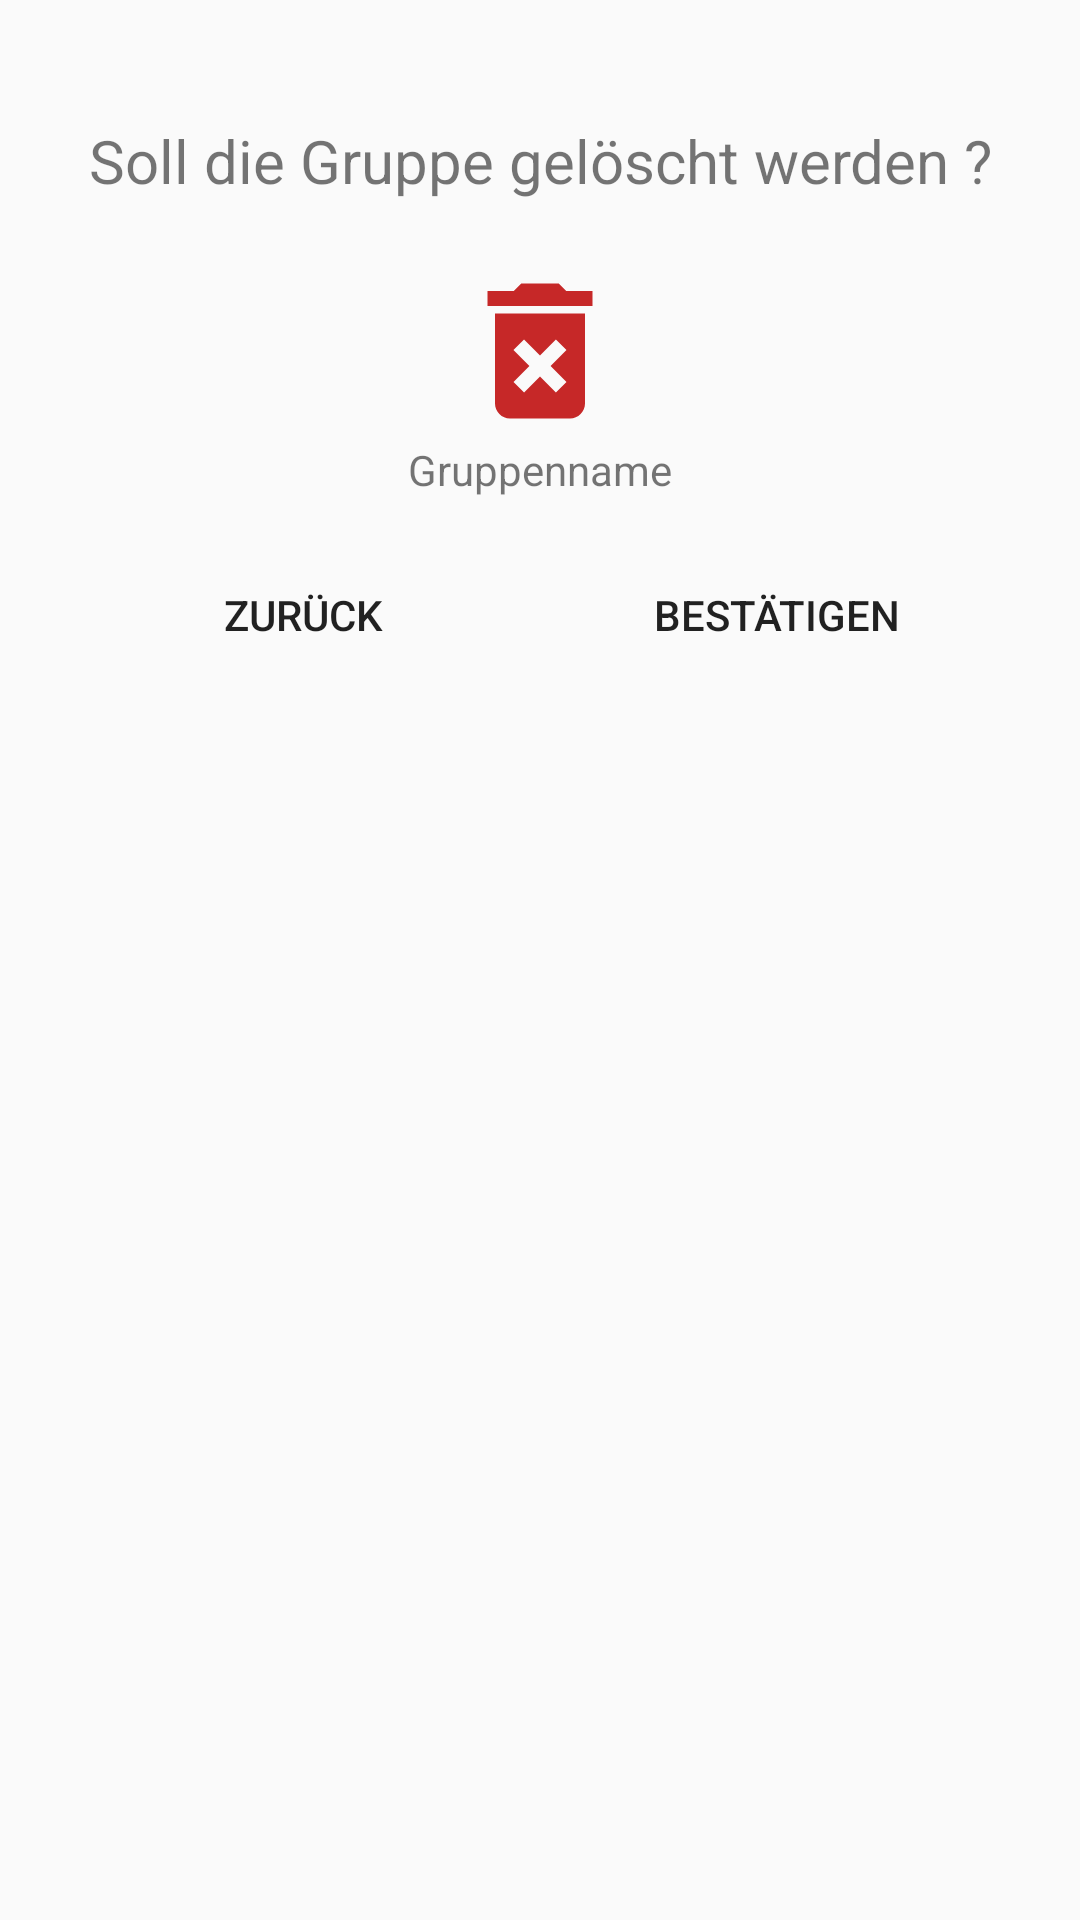

Where icons sit on this 1080x1920 app screen, as (x1, y1, x2, y2):
delete group dialog: (487, 283, 593, 419)
